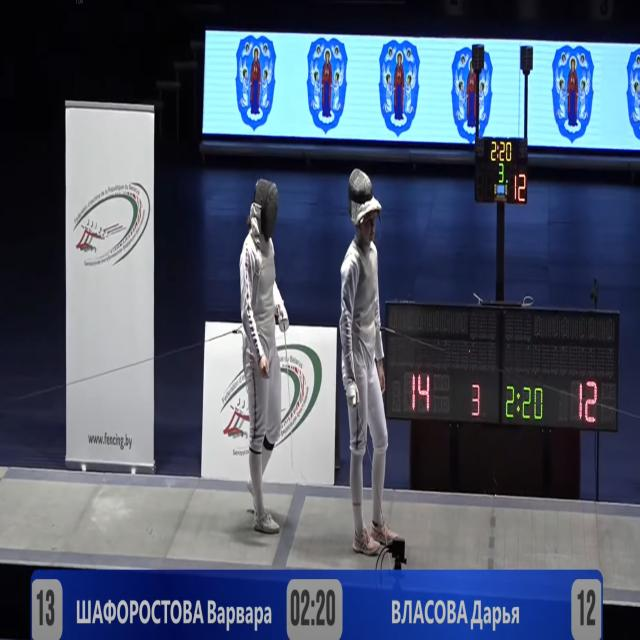fencer: (337, 164, 402, 557), (237, 171, 292, 549)
overlayLeft: (69, 573, 291, 640)
overlayRight: (336, 572, 559, 640)
scoreLeft: (31, 575, 65, 640)
scoreRight: (566, 573, 603, 640)
